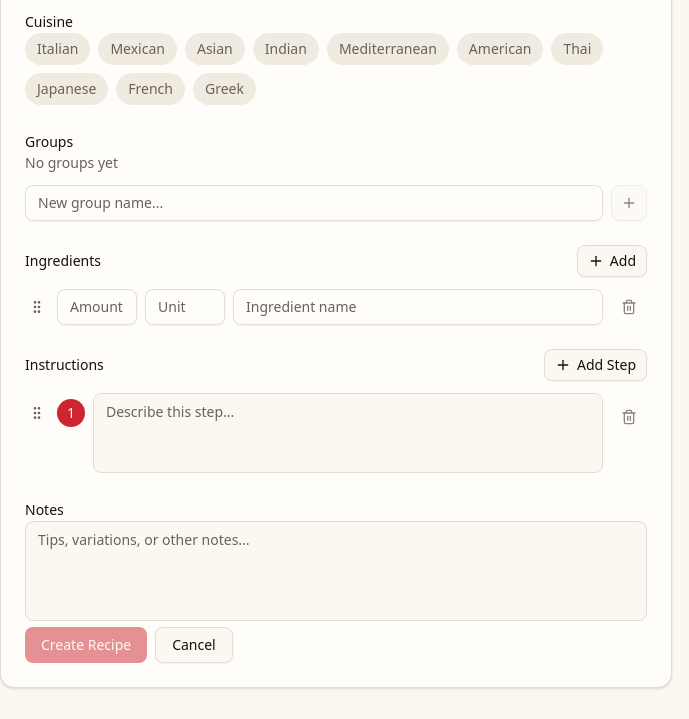
Test: RecipeForm - Create Mode › adds step when Add Step button is clicked
(page scrolled)
Click the button "Add Step": (595, 365) x1=544 y1=349 x2=647 y2=381
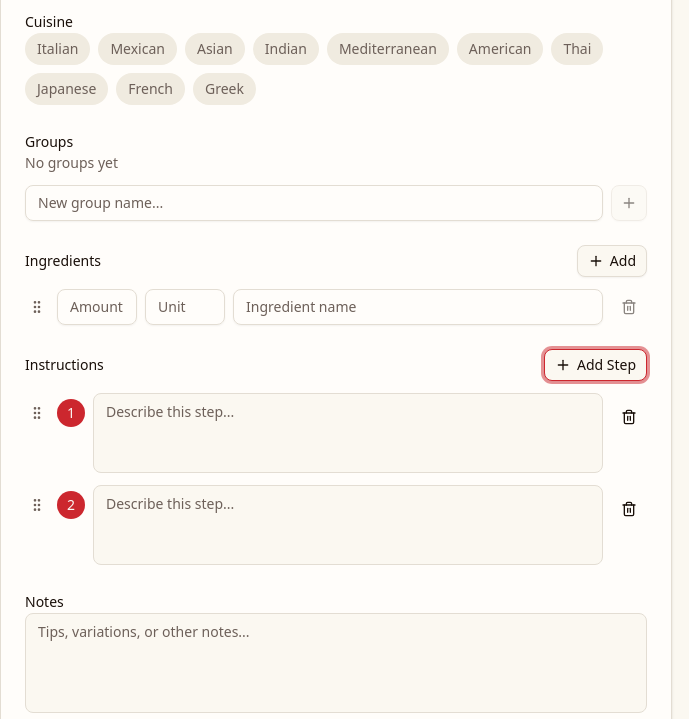
Check: the number of text boxes with placeholder "Describe this step..." is 2, box x1=93 y1=393 x2=603 y2=473; x1=93 y1=485 x2=603 y2=565
